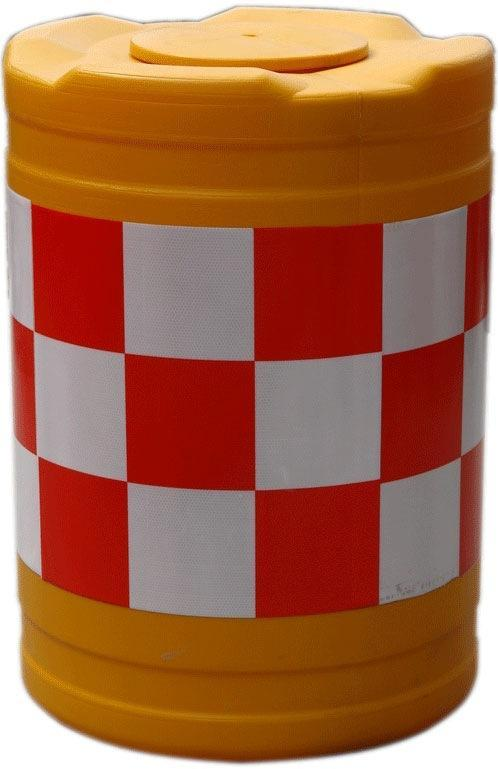sign: (2, 9, 491, 766)
